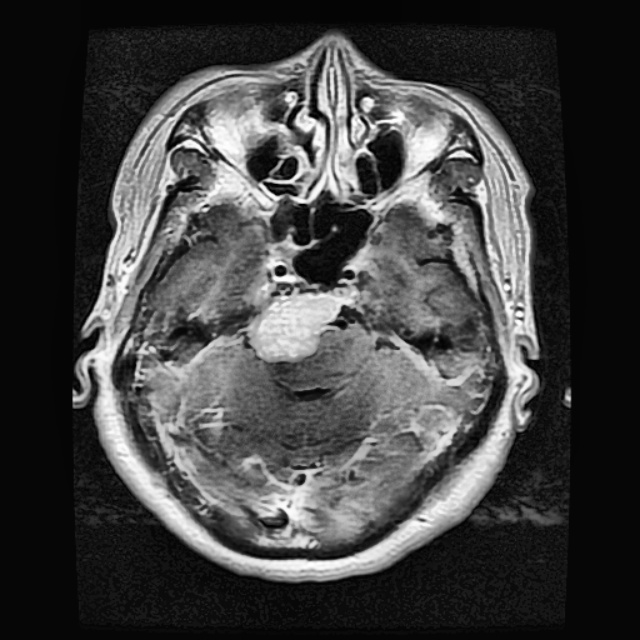Pituitary: (249, 290, 348, 360)
